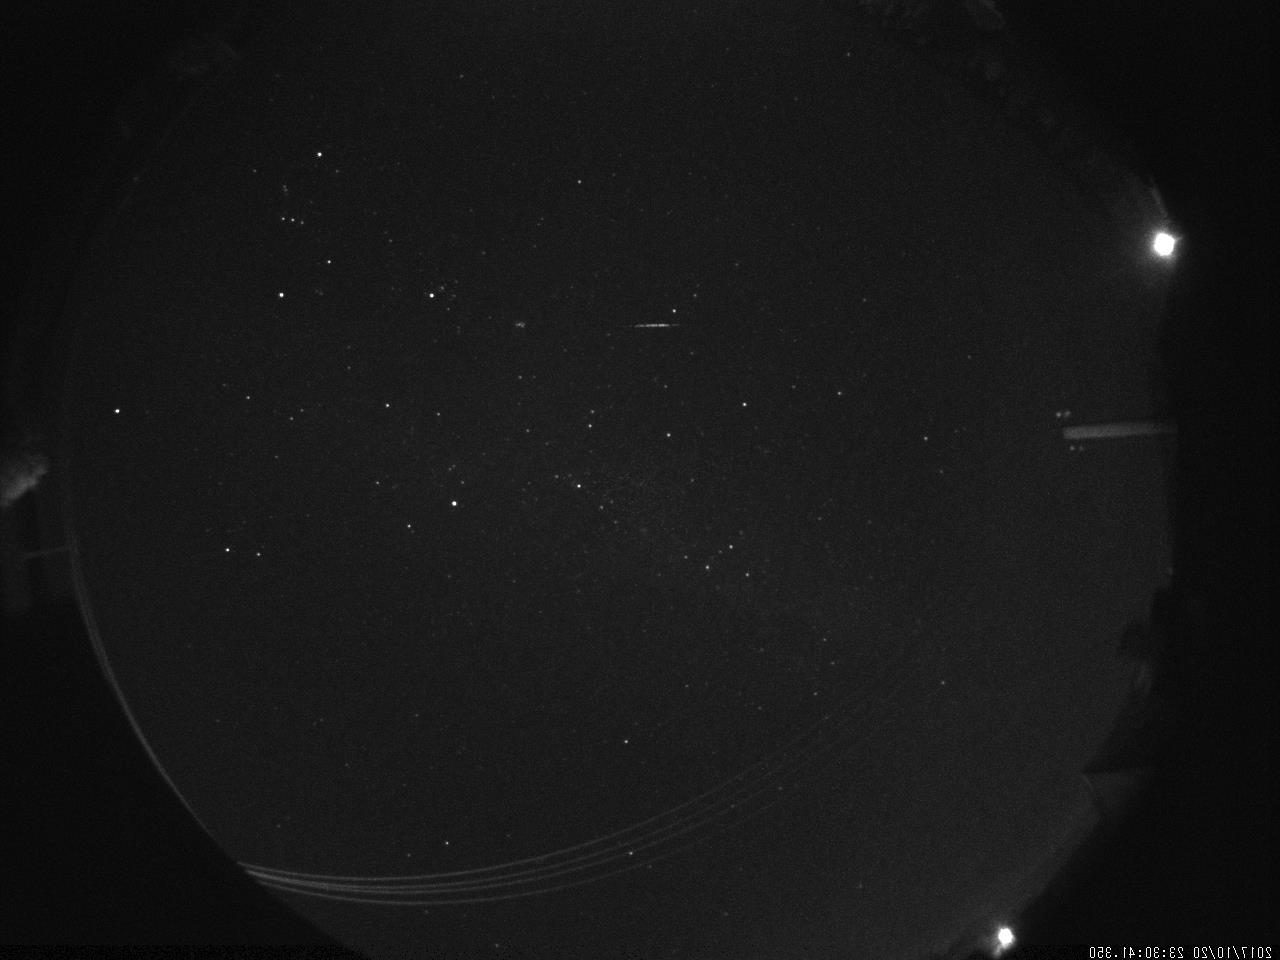meteor: (635, 313, 669, 336)
